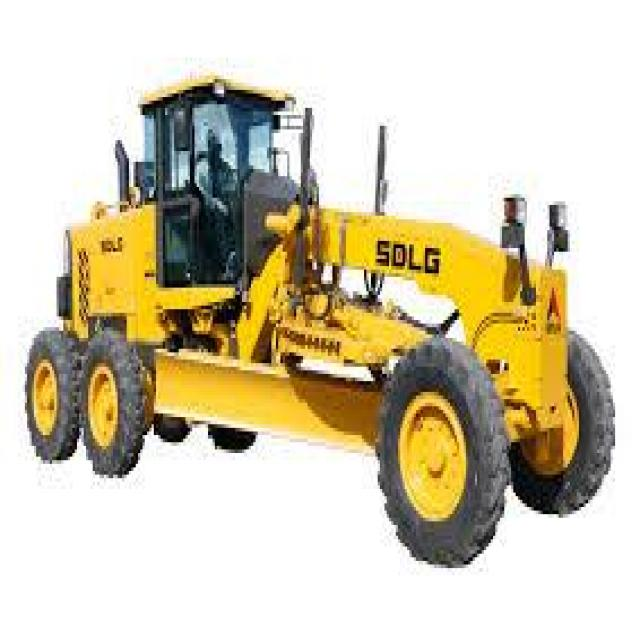Grader: (16, 58, 629, 572)
